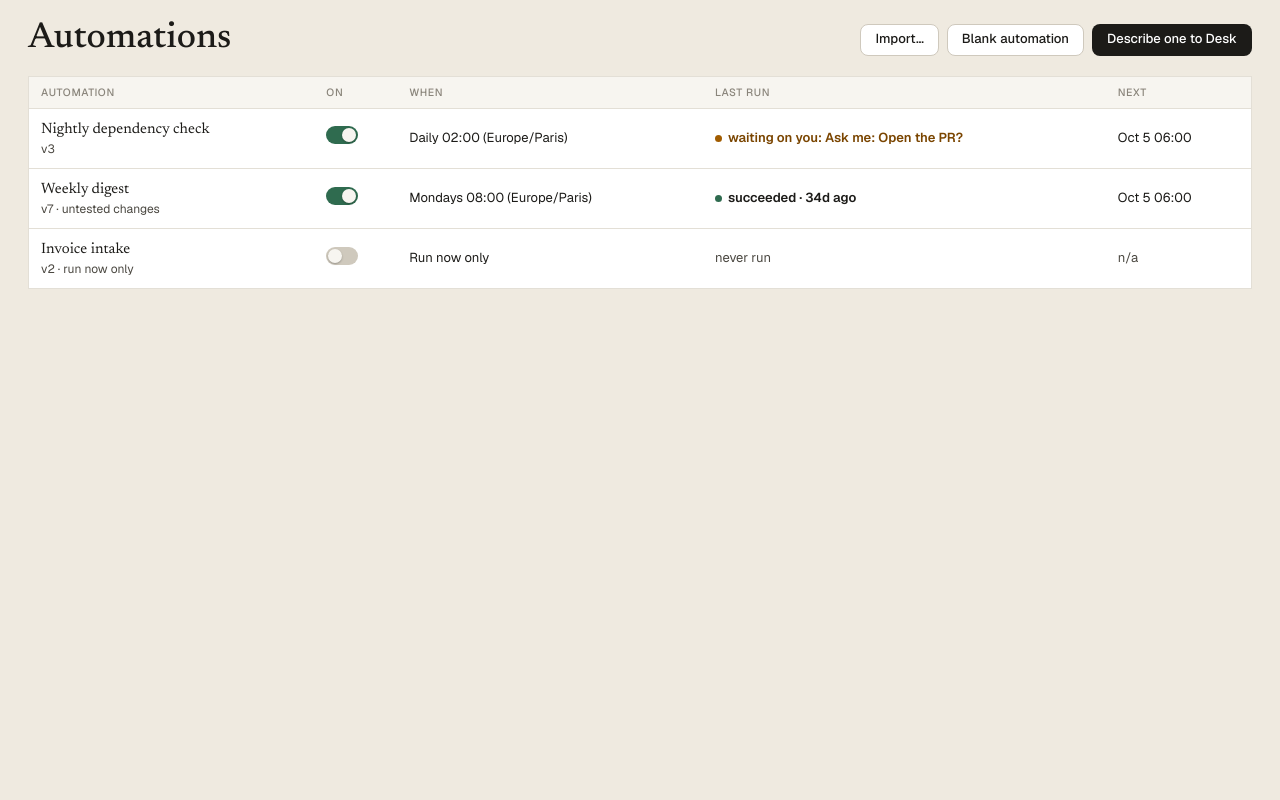
Test: Automations list › turns an automation off at once, and on through the Turn-on dialog
Click the switch named "Turn off Weekly digest" at (342, 196), box [326,187,358,205]
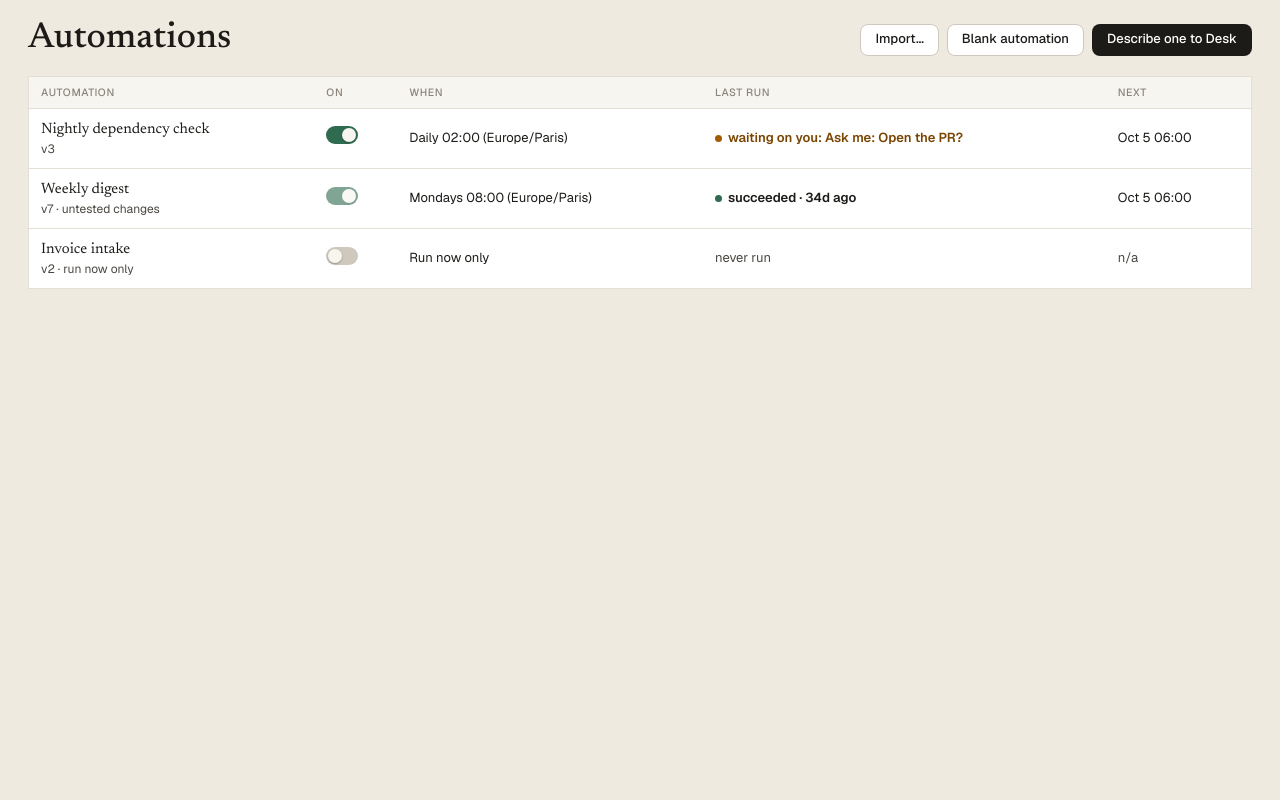
Click the switch named "Turn on Invoice intake" at (342, 256), box [326,247,358,265]
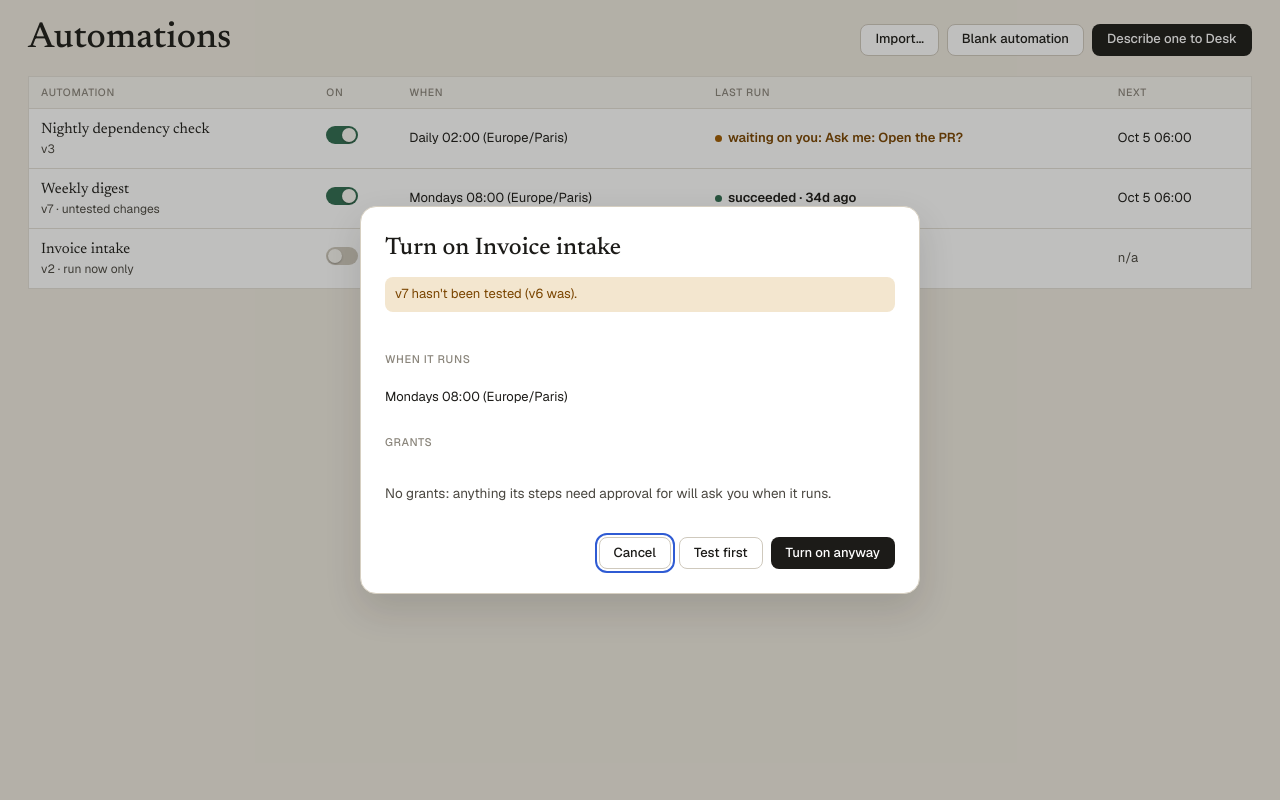
Expected: the dialog "Turn on Invoice intake" is shown, [360,206,920,594]
